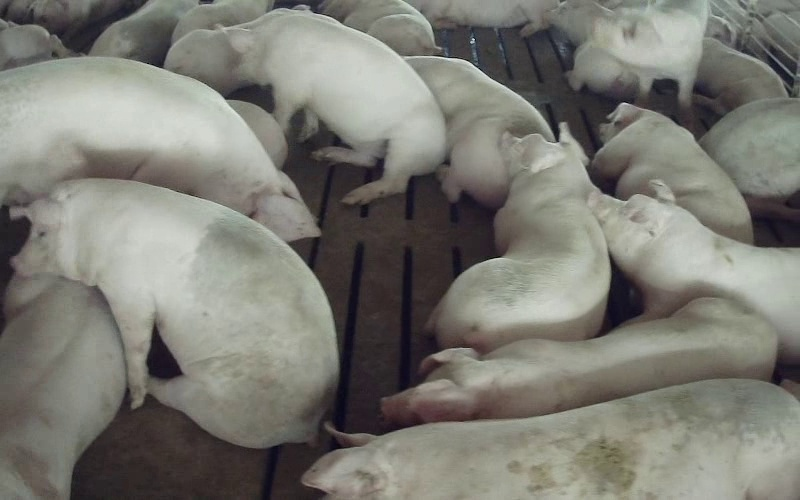pig: (11, 180, 337, 446), (302, 379, 799, 499), (381, 298, 776, 425), (428, 123, 609, 351), (229, 13, 444, 204), (589, 180, 799, 364), (0, 274, 125, 499), (405, 56, 554, 207), (591, 103, 752, 242), (588, 0, 707, 108), (700, 99, 799, 221), (164, 9, 295, 95), (547, 0, 638, 99), (694, 37, 787, 115), (319, 0, 441, 55), (406, 0, 558, 35)
